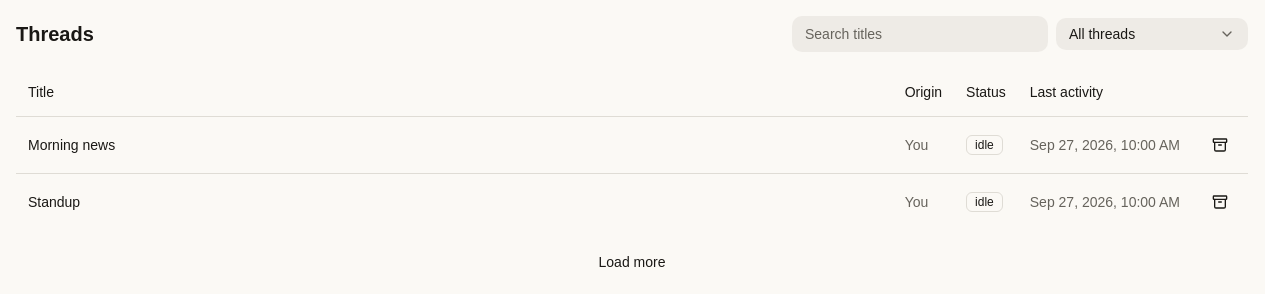
Test: the thread list page › loads the next page through the cursor until thread.list returns none
The width and height of the screenshot is (1265, 294).
Click the button "Load more".
click(632, 262)  # box [16,246,1248,278]
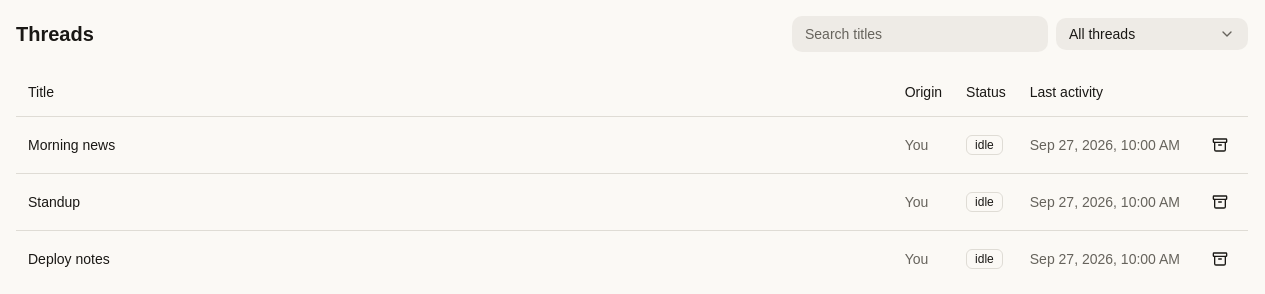
Expected: the button "Load more" is gone
